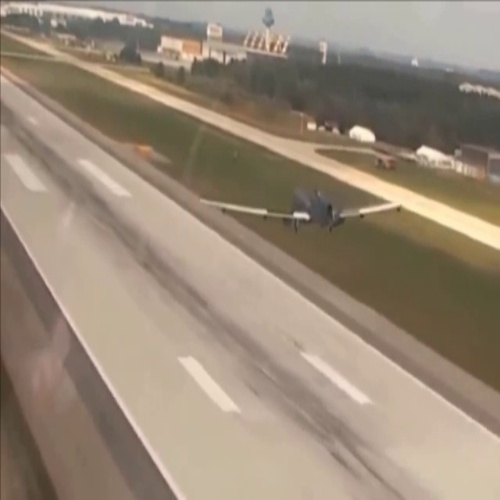uav: (198, 179, 408, 237)
